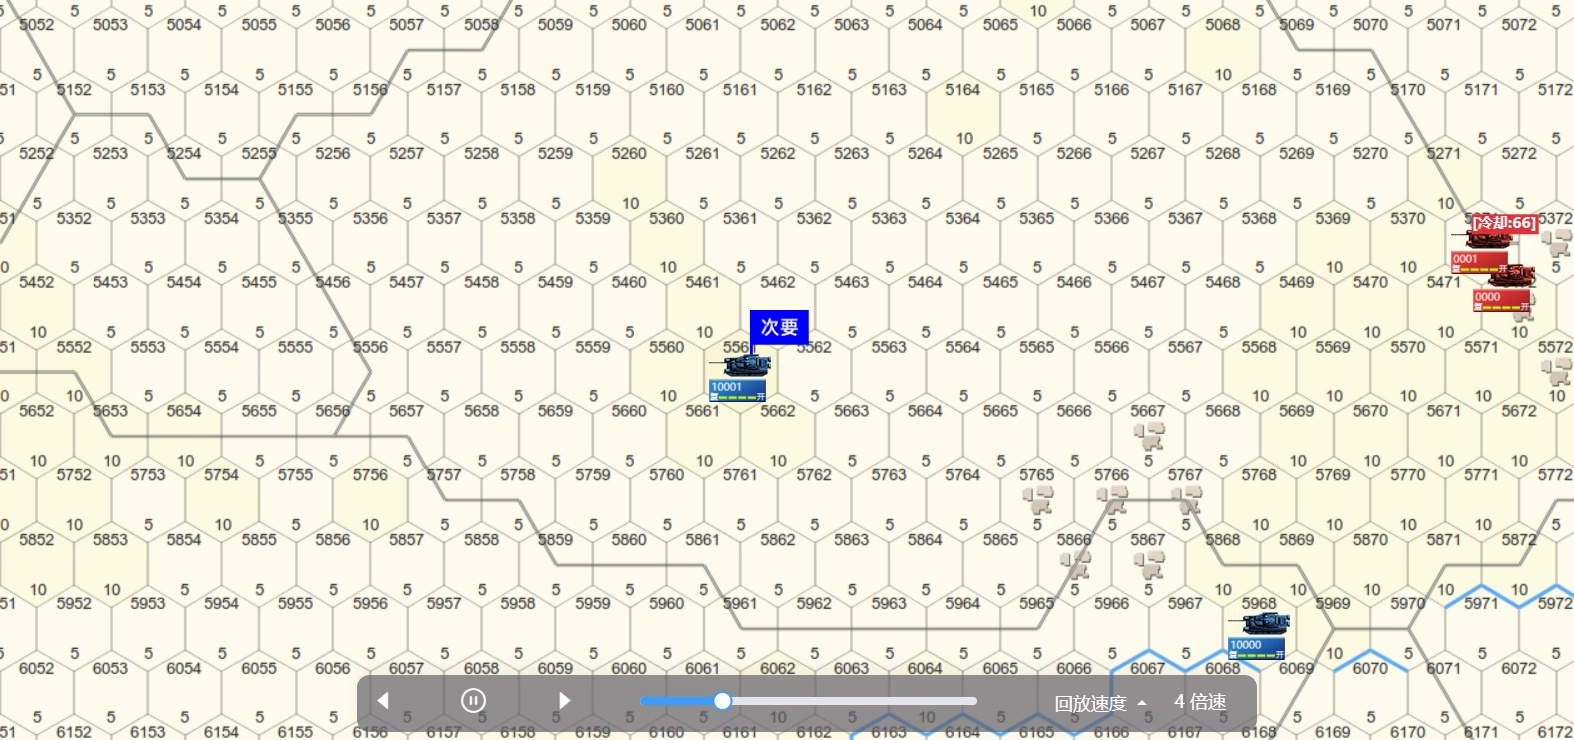blue_tank: (713, 350, 769, 404), (1232, 612, 1293, 650)
red_tank: (1470, 268, 1541, 313), (1452, 226, 1511, 278)
